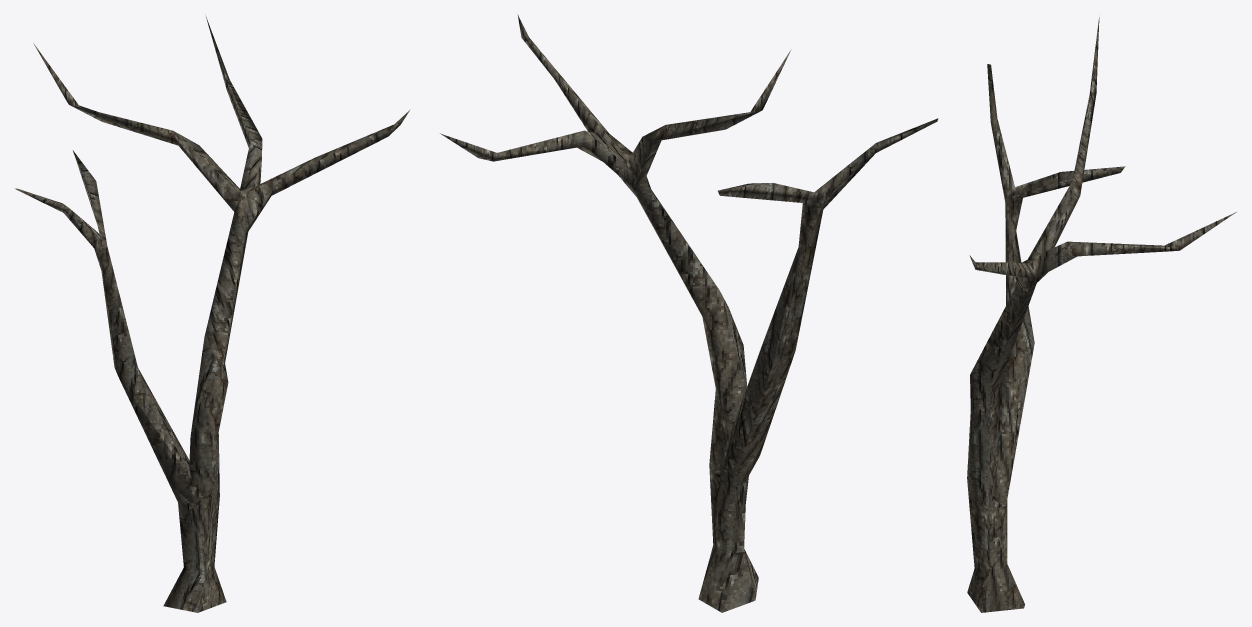
Rendered from desert_tree_1.glb.
The picture shows the model from 3 angles, left to right: view 1: azimuth 30°, elevation 25°; view 2: azimuth 150°, elevation 25°; view 3: azimuth 270°, elevation 25°; orthographic projection. The views are drawn at different scales.
Parts seen in each view (by area): view 1: Tree 1_Material.001_0; view 2: Tree 1_Material.001_0; view 3: Tree 1_Material.001_0.
Boxes of the visible parts, <box> form: Tree 1_Material.001_0: <box>15,17,410,612</box>; Tree 1_Material.001_0: <box>440,14,938,612</box>; Tree 1_Material.001_0: <box>967,17,1236,612</box>.
Size of the model in its own units: 11.64 by 16.05 by 7.26.
Materials: 1 (1 with a texture image).
